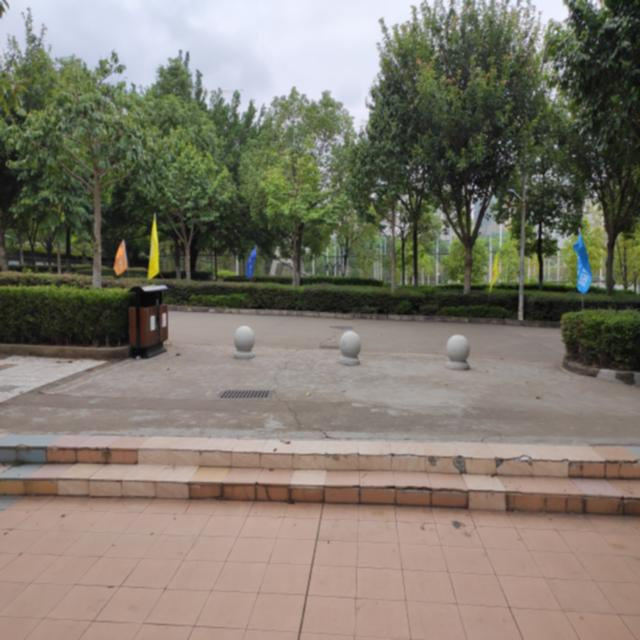ash bin: (126, 284, 170, 358)
spherical_roadblock: (337, 330, 362, 367), (445, 334, 470, 370), (232, 325, 255, 359)
